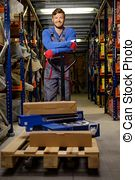pallet: (4, 131, 105, 168)
